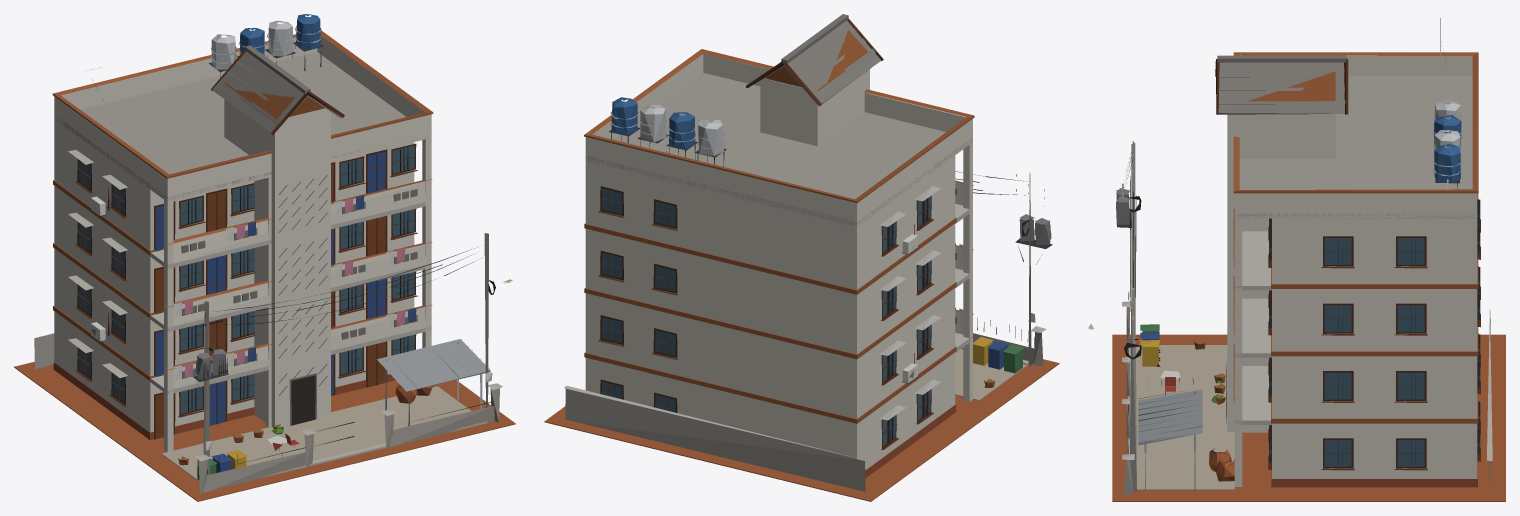
The model's file is home_4.glb.
3 views of the same model, side by side, from view 1: azimuth 30°, elevation 25°; view 2: azimuth 150°, elevation 25°; view 3: azimuth 270°, elevation 25° (orthographic). The views are drawn at different scales.
Visible parts, largest first — view 1: body, windows; view 2: body, windows; view 3: body, windows.
Part boxes in pixels (bbox=[...]): body: bbox=[14, 14, 515, 501]; windows: bbox=[78, 145, 511, 425]; body: bbox=[544, 14, 1059, 501]; windows: bbox=[601, 188, 930, 446]; body: bbox=[1088, 18, 1505, 501]; windows: bbox=[1089, 198, 1478, 466].
Size of the model in its own units: 15.9 by 16.3 by 16.88.
